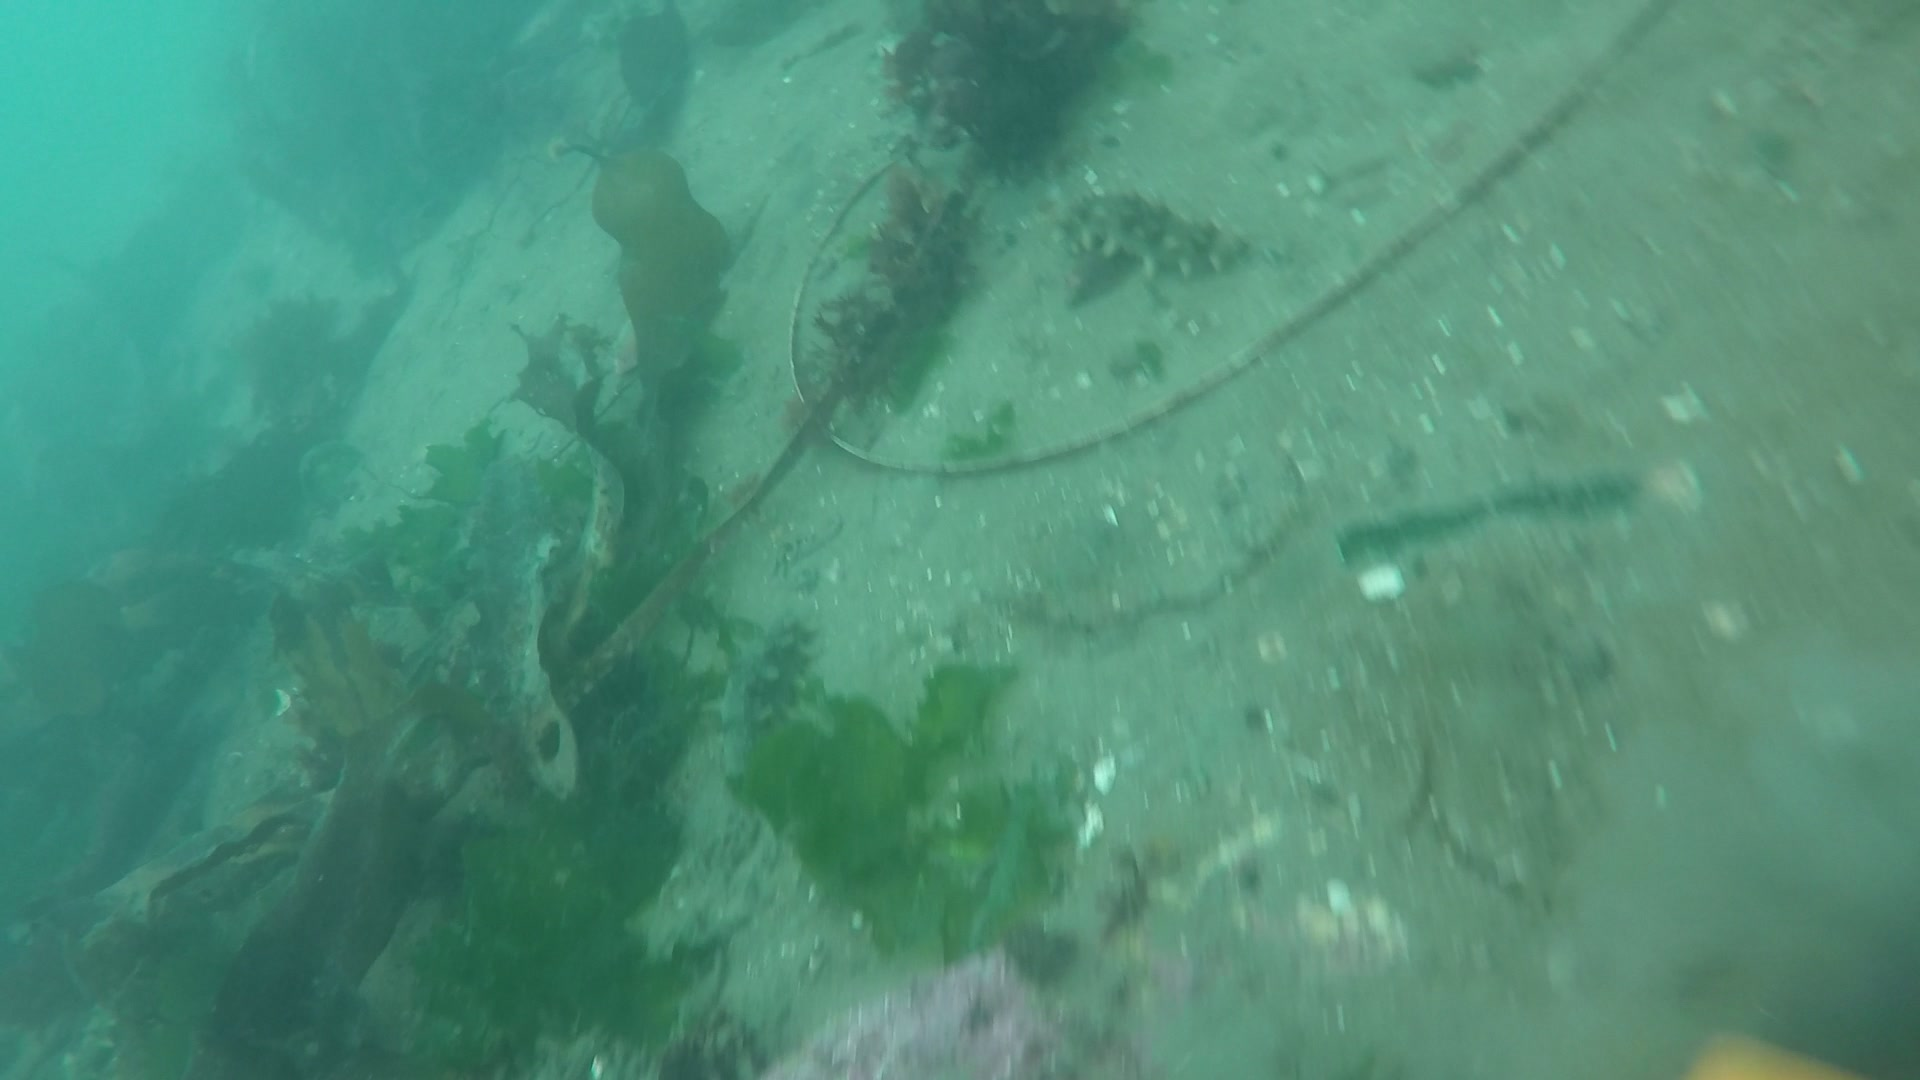holothurian: (1054, 193, 1259, 289)
